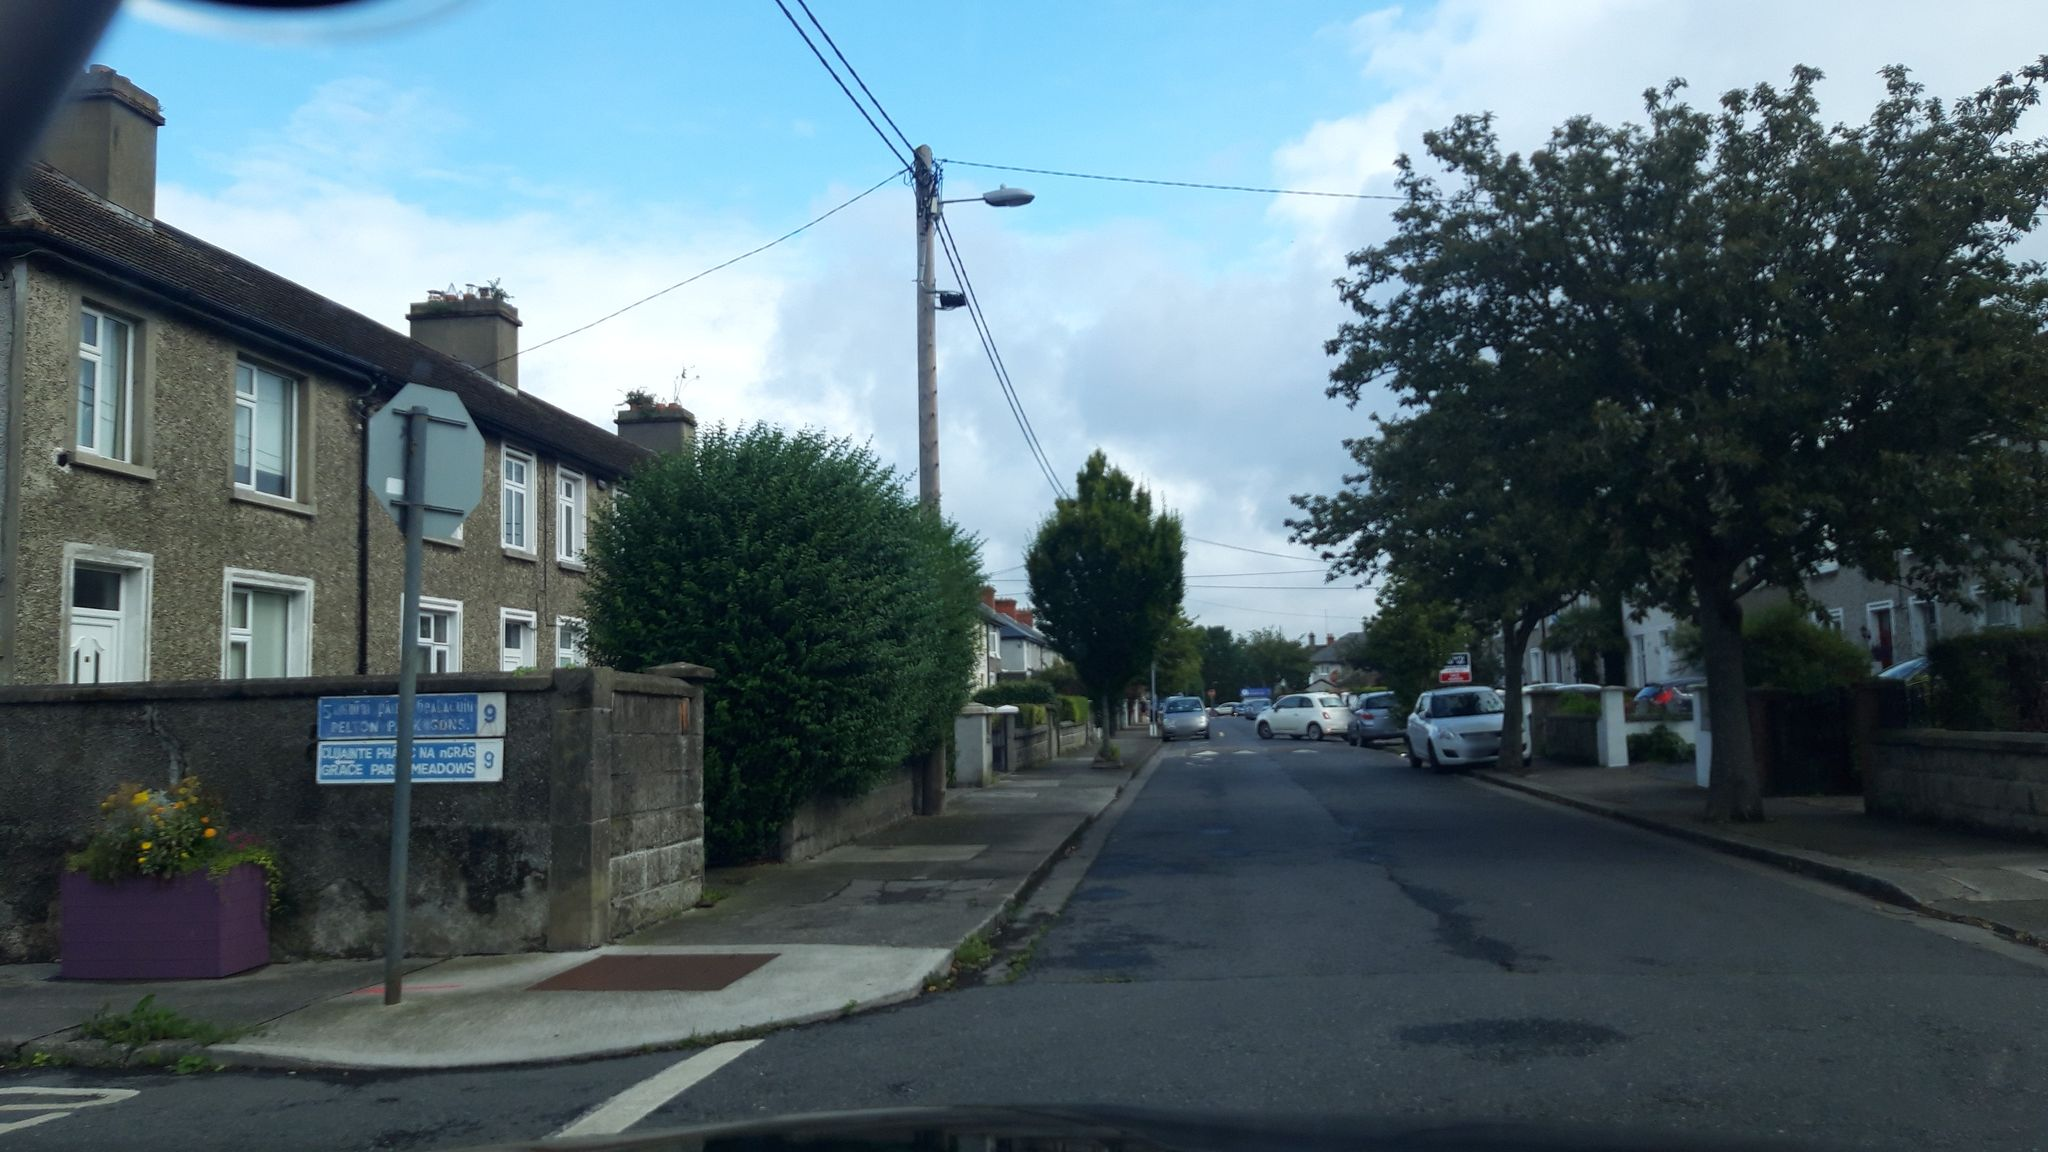property sign: (1423, 637, 1484, 692)
